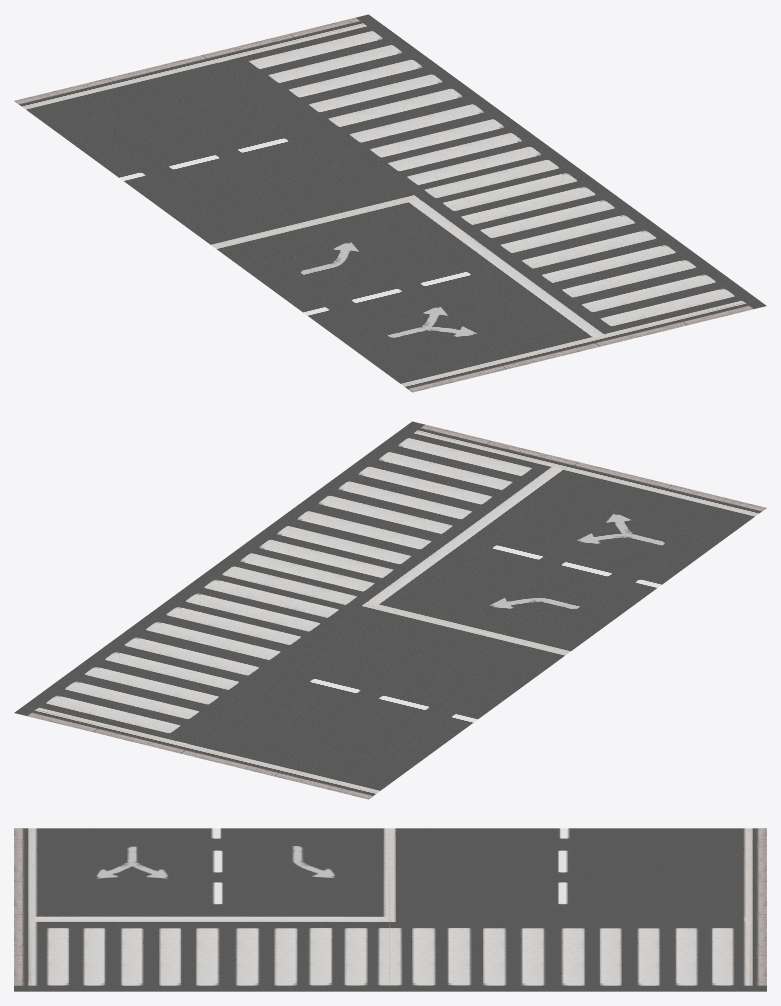
File: 4 lines end.FBX
The picture shows the model from 3 angles, top to bottom: view 1: azimuth 30°, elevation 25°; view 2: azimuth 150°, elevation 25°; view 3: azimuth 270°, elevation 25°; orthographic projection. The views are drawn at different scales.
Parts seen in each view (by area): view 1: Plane039; view 2: Plane039; view 3: Plane039.
Boxes of the visible parts, x1,y1,x2,y2 form: Plane039: (14,14,766,392); Plane039: (14,421,766,799); Plane039: (14,828,766,991).
Bounding box in the file's own units: 12.03 × 8.1e-15 × 23.4.
